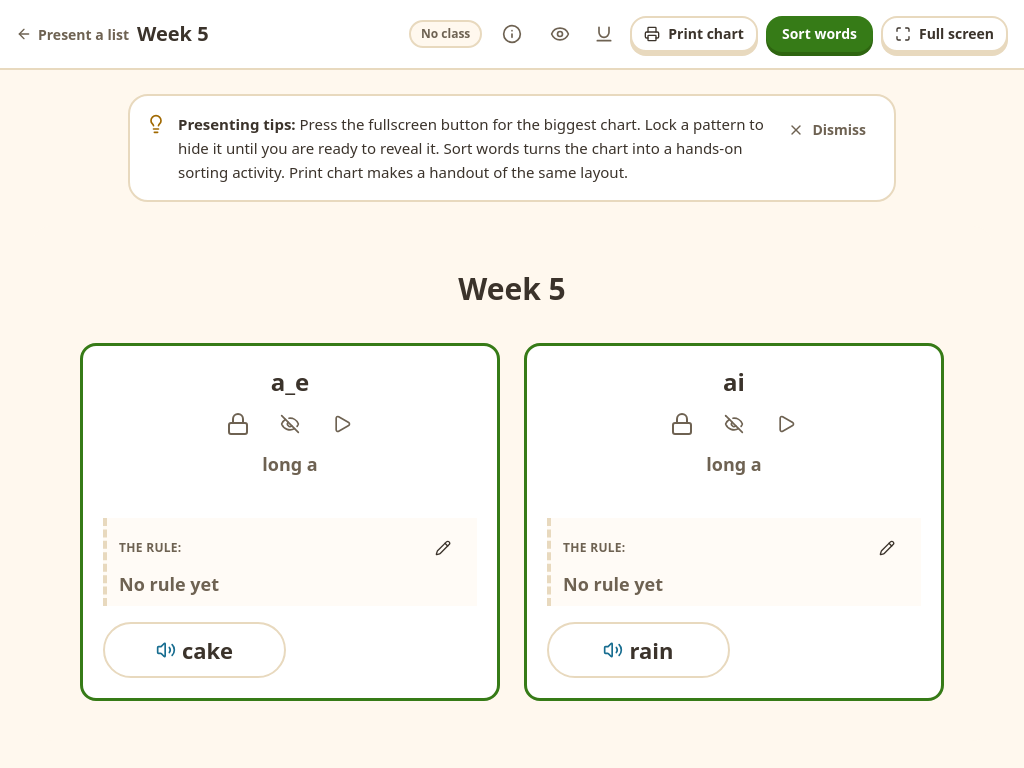
it: DisplayMode › locks a pattern optimistically and persists via updateList
The image size is (1024, 768).
Click the button named "Lock pattern a_e".
click(238, 424)  # box [216,402,260,446]
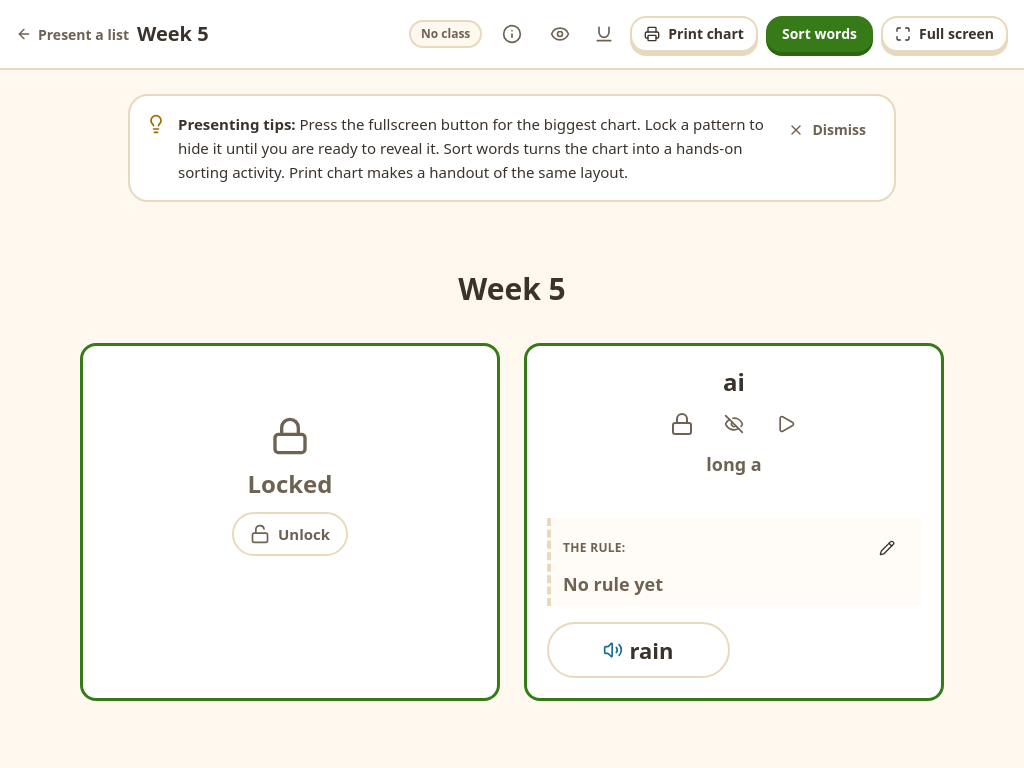
Expected: the element named "Pattern ai" is shown, [524,343,944,701]
Expected: the element named "Locked pattern" is shown, [80,343,500,701]
